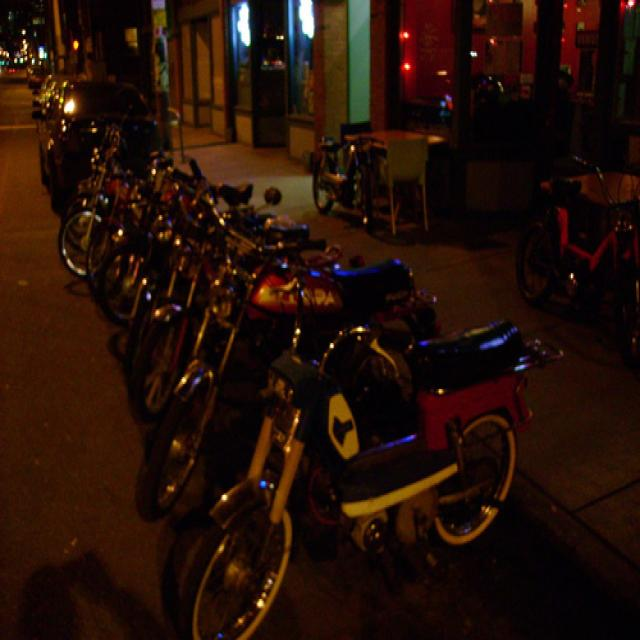Motorbike: (62, 144, 525, 635), (310, 124, 377, 244)
